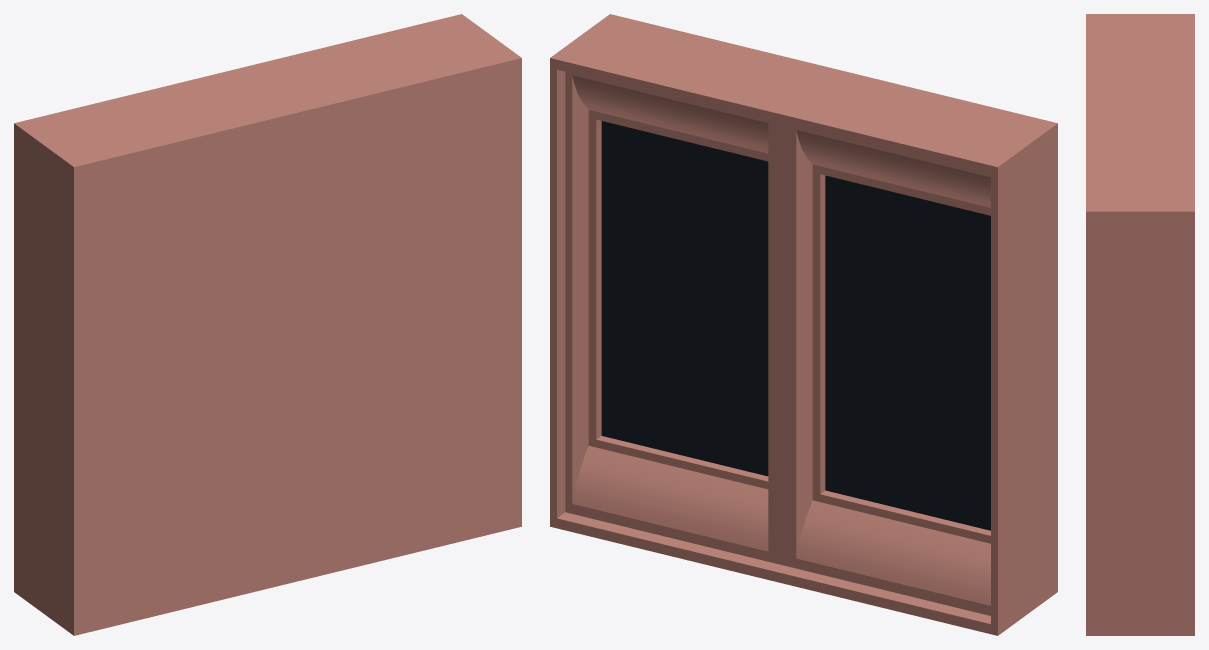
File: BasicWall1x5Var03.fbx
3 views of the same model, side by side, from view 1: azimuth 30°, elevation 25°; view 2: azimuth 150°, elevation 25°; view 3: azimuth 270°, elevation 25° (orthographic). The views are drawn at different scales.
Parts seen in each view (by area): view 1: WindowWall03.001; view 2: WindowWall03.001; view 3: WindowWall03.001.
Part boxes in pixels (x1,y1,x2,y2): WindowWall03.001: (14,14,521,635); WindowWall03.001: (550,14,1057,635); WindowWall03.001: (1086,14,1194,635).
Size of the model in its own units: 500 by 500 by 116.
